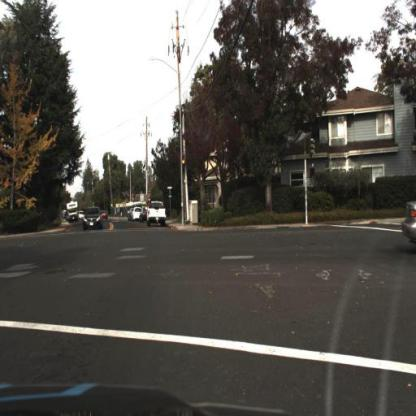car: (77, 206, 106, 236), (144, 199, 169, 228), (146, 202, 170, 231), (84, 206, 105, 232)
trafficLight-Red: (180, 154, 188, 178), (182, 154, 188, 181)
truck: (65, 202, 81, 228)
